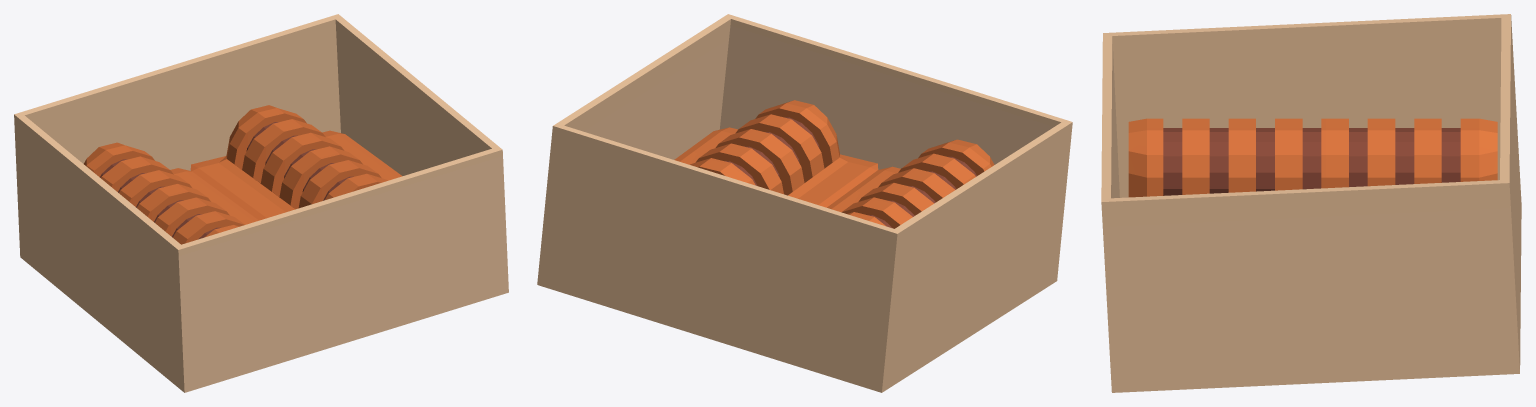
File: Frikandelbroodje box.fbx
3 renders of one model, left to right at view 1: azimuth 30°, elevation 25°; view 2: azimuth 150°, elevation 25°; view 3: azimuth 270°, elevation 25°, orthographic. The views are drawn at different scales.
Visible parts, largest first — view 1: Cube.002; view 2: Cube.002; view 3: Cube.002.
Boxes of the visible parts, x1,y1,x2,y2 form: Cube.002: [14, 14, 508, 392]; Cube.002: [537, 14, 1072, 392]; Cube.002: [1101, 14, 1521, 392].
Bounding box in the file's own units: 0.3517 × 0.1868 × 0.3085.
